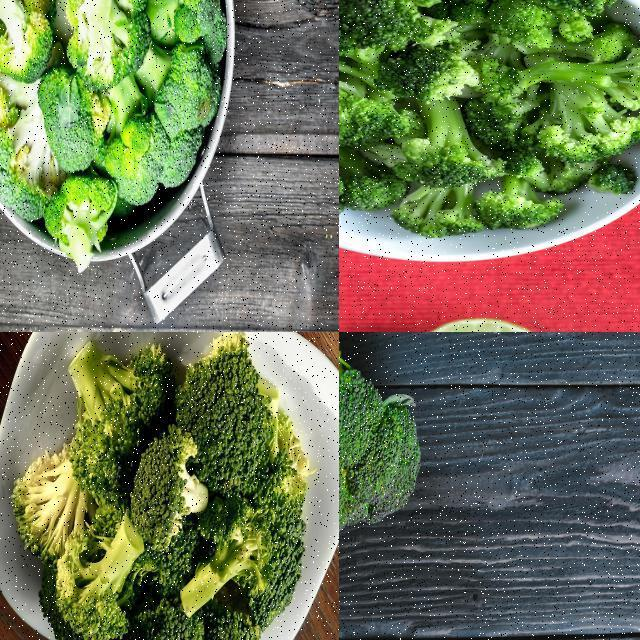broccoli: (101, 0, 231, 203), (177, 460, 309, 620), (339, 332, 429, 551), (61, 334, 166, 502), (0, 35, 65, 220), (57, 509, 146, 639), (394, 90, 504, 191), (5, 436, 90, 562), (523, 73, 639, 163), (509, 31, 639, 105), (40, 169, 120, 278), (65, 0, 155, 94), (40, 68, 118, 170), (339, 73, 421, 149), (339, 0, 448, 55), (104, 588, 202, 639), (0, 0, 52, 82)
